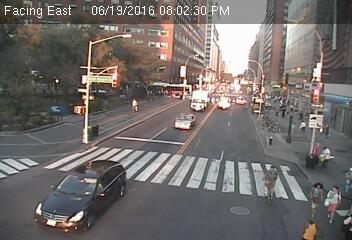neg: (252, 159, 286, 205), (180, 148, 205, 181), (223, 144, 242, 169), (8, 77, 24, 98), (195, 102, 209, 121), (184, 191, 198, 210), (56, 92, 70, 110), (19, 32, 33, 50), (98, 169, 111, 188), (256, 120, 269, 138), (110, 39, 122, 56), (53, 58, 65, 75), (225, 90, 237, 106), (169, 57, 181, 73), (83, 66, 95, 82), (53, 8, 65, 24), (127, 171, 139, 186), (36, 185, 48, 200), (146, 18, 157, 33), (74, 152, 85, 167), (194, 65, 205, 80), (18, 144, 29, 159), (87, 111, 97, 124), (97, 132, 107, 145), (136, 199, 146, 212), (225, 117, 235, 130), (163, 117, 172, 129), (106, 10, 115, 22), (190, 16, 198, 27), (70, 196, 77, 206)
pos: (320, 184, 349, 222), (304, 178, 331, 215), (315, 144, 336, 172), (305, 139, 324, 164), (301, 217, 318, 239), (128, 95, 140, 111), (298, 118, 308, 131), (297, 107, 307, 120), (281, 105, 289, 117), (290, 102, 297, 112)
